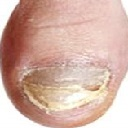Nail Fungal Infection: (18, 78, 108, 111)
